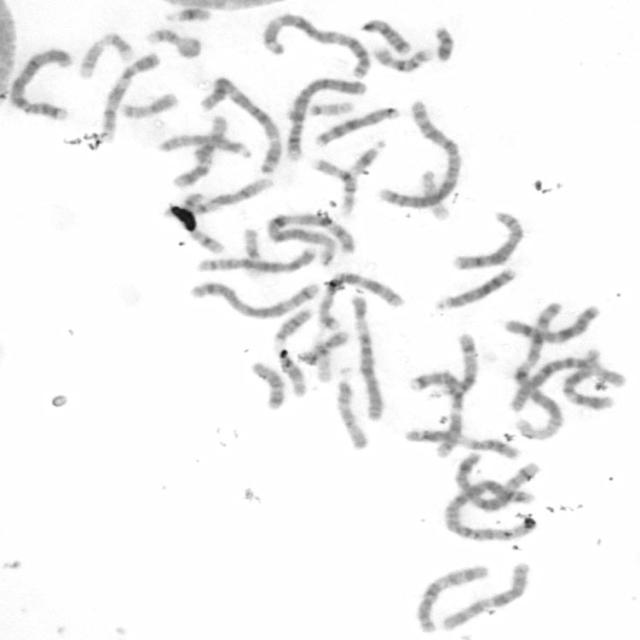A1: (508, 295, 566, 441), (261, 209, 358, 267)
A2: (373, 97, 464, 211), (440, 479, 543, 543)
A3: (196, 72, 286, 175), (258, 10, 372, 78)
B4: (281, 72, 366, 163), (7, 46, 73, 120)
B5: (187, 276, 321, 321), (450, 450, 535, 509)
C10: (436, 558, 534, 632), (411, 563, 491, 635)
C11: (401, 424, 524, 460), (271, 305, 317, 399)
C12: (168, 112, 229, 190), (556, 349, 616, 411)
C6: (505, 354, 627, 414), (347, 291, 387, 423)
C7: (314, 268, 406, 332), (405, 367, 465, 461)
C8: (449, 210, 526, 271), (194, 246, 318, 274)
C9: (98, 51, 161, 144), (170, 175, 274, 216)
D13: (431, 263, 519, 311), (312, 104, 401, 148)
D14: (160, 202, 227, 256), (434, 329, 481, 401)
D15: (330, 368, 370, 452), (154, 130, 254, 160)
E16: (309, 156, 356, 214), (368, 42, 436, 74)
E17: (75, 29, 135, 79), (142, 24, 204, 60)
E18: (247, 357, 287, 411), (359, 16, 413, 56)
F19: (415, 167, 452, 222), (308, 336, 332, 384)
F20: (294, 329, 349, 366), (118, 90, 180, 120)
G21: (346, 136, 388, 176), (162, 2, 215, 25)
G22: (240, 225, 264, 265), (306, 98, 355, 116)
X: (500, 302, 602, 345)
Y: (431, 24, 455, 62)
